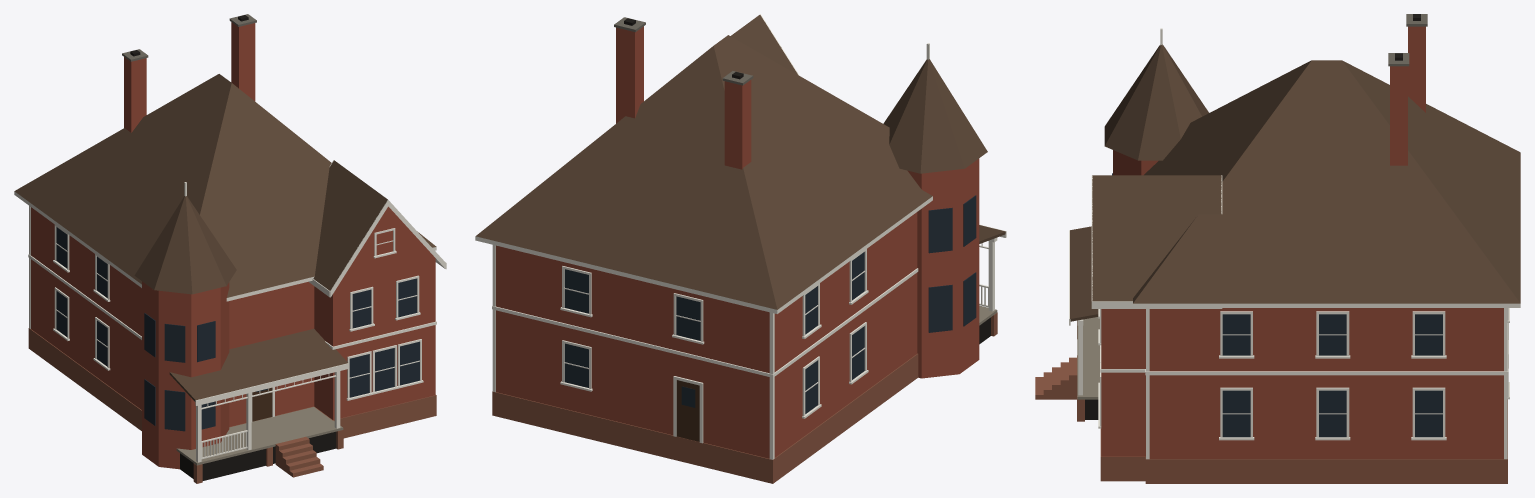
File: baker-house.glb
3 renders of one model, left to right at view 1: azimuth 30°, elevation 25°; view 2: azimuth 150°, elevation 25°; view 3: azimuth 270°, elevation 25°, orthographic. The views are drawn at different scales.
Parts seen in each view (by area): view 1: argenta_roof, argenta_wall, argenta_trim, argenta_glass, argenta_foundation, argenta_porchfloor, argenta_chimney, argenta_shadow, argenta_door; view 2: argenta_roof, argenta_wall, argenta_foundation, argenta_trim, argenta_glass, argenta_chimney, argenta_door; view 3: argenta_roof, argenta_wall, argenta_foundation, argenta_trim, argenta_glass, argenta_chimney, argenta_porchfloor.
Boxes of the visible parts, x1,y1,x2,y2 form: argenta_roof: [14, 74, 436, 401]; argenta_wall: [31, 206, 435, 469]; argenta_trim: [14, 160, 446, 462]; argenta_glass: [56, 227, 419, 431]; argenta_foundation: [28, 328, 436, 483]; argenta_porchfloor: [176, 407, 343, 465]; argenta_chimney: [124, 22, 255, 132]; argenta_shadow: [130, 15, 336, 480]; argenta_door: [252, 387, 272, 421]; argenta_roof: [476, 15, 1005, 309]; argenta_wall: [496, 158, 979, 458]; argenta_foundation: [492, 312, 997, 483]; argenta_trim: [475, 14, 1006, 459]; argenta_glass: [564, 195, 976, 413]; argenta_chimney: [616, 26, 751, 169]; argenta_door: [676, 380, 699, 441]; argenta_roof: [1070, 44, 1520, 321]; argenta_wall: [1101, 150, 1503, 458]; argenta_foundation: [1035, 321, 1507, 483]; argenta_trim: [1069, 28, 1520, 459]; argenta_glass: [1112, 173, 1442, 437]; argenta_chimney: [1390, 26, 1425, 165]; argenta_porchfloor: [1077, 317, 1099, 399].
Bounding box in the file's own units: 12.84 × 14.18 × 16.15.
